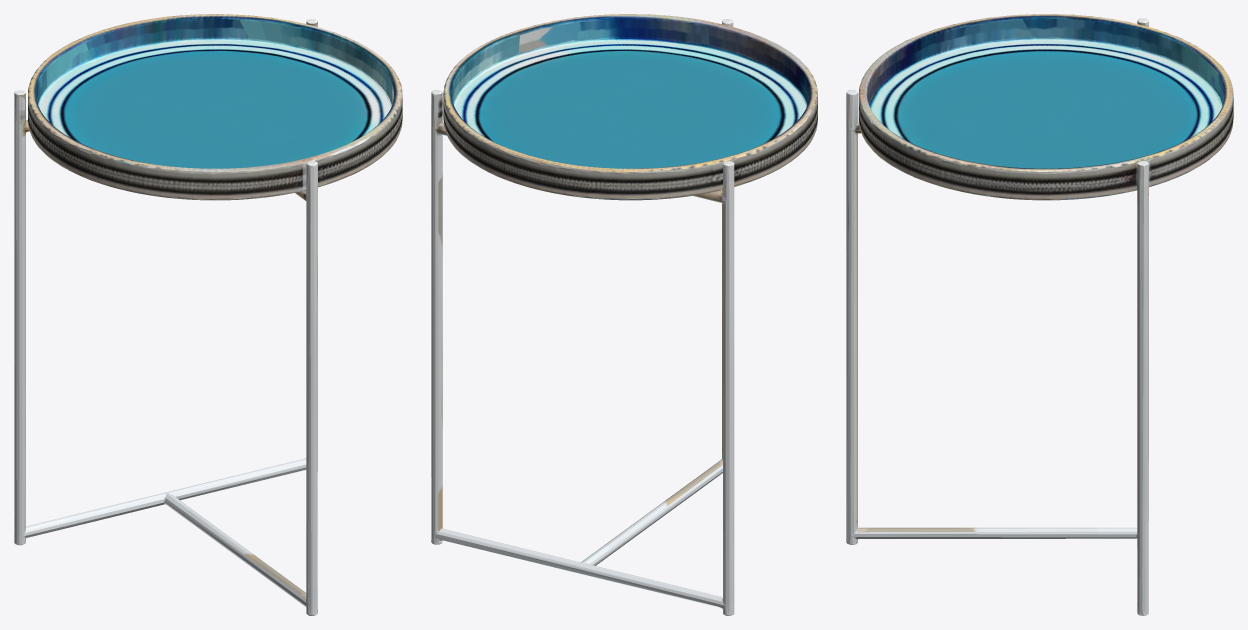
Rendered from edited_mesh.glb.
The picture shows the model from 3 angles, left to right: view 1: azimuth 30°, elevation 25°; view 2: azimuth 150°, elevation 25°; view 3: azimuth 270°, elevation 25°; orthographic projection.
Visible parts, largest first — view 1: normalized_model.obj; view 2: normalized_model.obj; view 3: normalized_model.obj.
Boxes of the visible parts, left/top/right/bottom form: normalized_model.obj: left=14, top=14, right=402, bottom=615; normalized_model.obj: left=431, top=14, right=817, bottom=615; normalized_model.obj: left=846, top=14, right=1233, bottom=615.
Bounding box in the file's own units: 1.09 × 1.44 × 1.12.
Materials: 1 (1 with a texture image).
